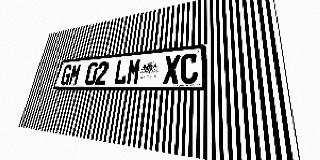0: (84, 62, 99, 85)
2: (94, 61, 109, 85)
C: (180, 53, 198, 84)
G: (59, 64, 73, 85)
L: (113, 59, 129, 85)
M: (126, 58, 142, 85), (68, 64, 82, 85)
X: (163, 55, 180, 84)
